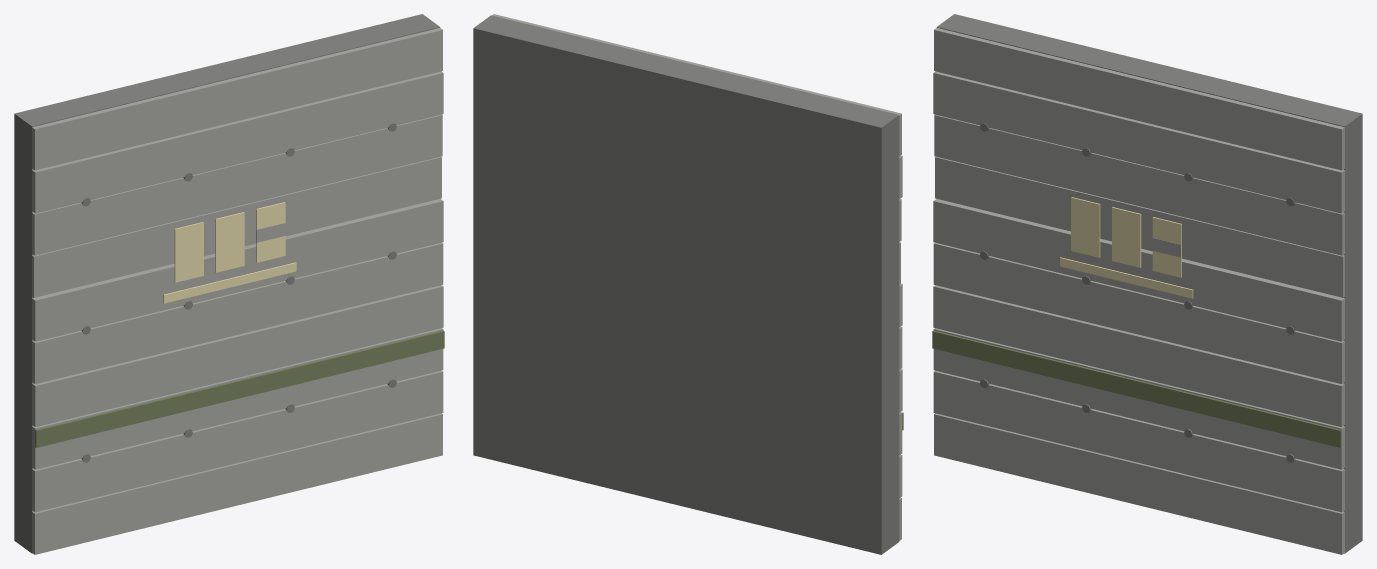
The model's file is wall_bk_concrete2.glb.
3 views of the same model, side by side, from view 1: azimuth 30°, elevation 25°; view 2: azimuth 150°, elevation 25°; view 3: azimuth 330°, elevation 25° (orthographic).
Visible parts, largest first — view 1: wall_bk_concrete2; view 2: wall_bk_concrete2; view 3: wall_bk_concrete2.
Part boxes in pixels (x1=…): wall_bk_concrete2: x1=14, y1=14, x2=444, y2=554; wall_bk_concrete2: x1=473, y1=14, x2=903, y2=554; wall_bk_concrete2: x1=932, y1=14, x2=1362, y2=554.
Bounding box in the file's own units: 4 × 4 × 0.379.
